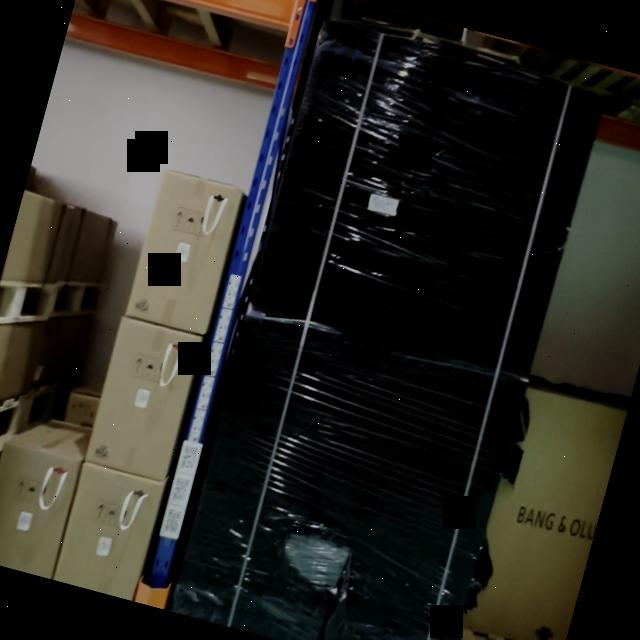box: (166, 21, 599, 640), (459, 385, 627, 640), (126, 171, 244, 334), (86, 316, 202, 480), (53, 464, 161, 600), (0, 443, 79, 578)
